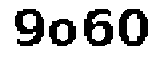0: (115, 7, 149, 49)
6: (83, 5, 114, 49)
9: (13, 5, 45, 49)
o: (47, 17, 77, 49)
